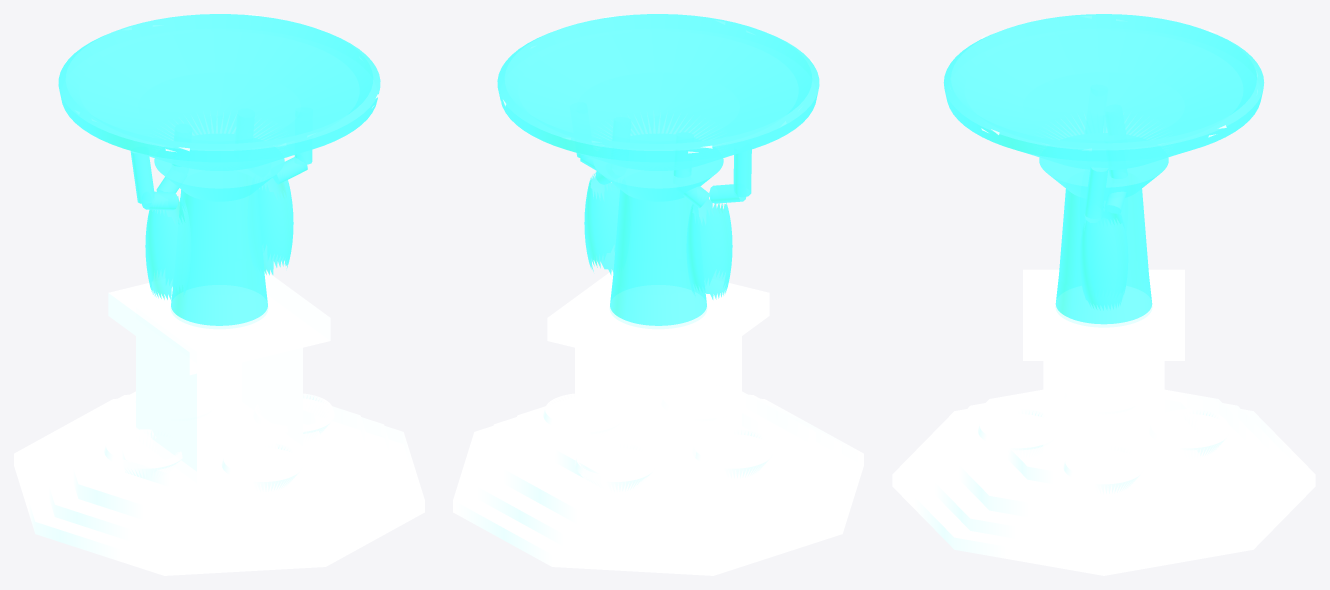
Rendered from skidmore-fountain.glb.
The picture shows the model from 3 angles, left to right: view 1: azimuth 30°, elevation 25°; view 2: azimuth 150°, elevation 25°; view 3: azimuth 270°, elevation 25°; orthographic projection.
Parts seen in each view (by area): view 1: Skidmore Fountain, Skidmore Fountain.001; view 2: Skidmore Fountain, Skidmore Fountain.001; view 3: Skidmore Fountain, Skidmore Fountain.001.
Boxes of the visible parts, x1=… form: Skidmore Fountain: x1=14, y1=14, x2=424, y2=575; Skidmore Fountain.001: x1=58, y1=14, x2=380, y2=328; Skidmore Fountain: x1=453, y1=15, x2=863, y2=575; Skidmore Fountain.001: x1=497, y1=14, x2=819, y2=328; Skidmore Fountain: x1=892, y1=29, x2=1315, y2=575; Skidmore Fountain.001: x1=943, y1=14, x2=1264, y2=326.
Size of the model in its own units: 4.7 by 5 by 4.7.
